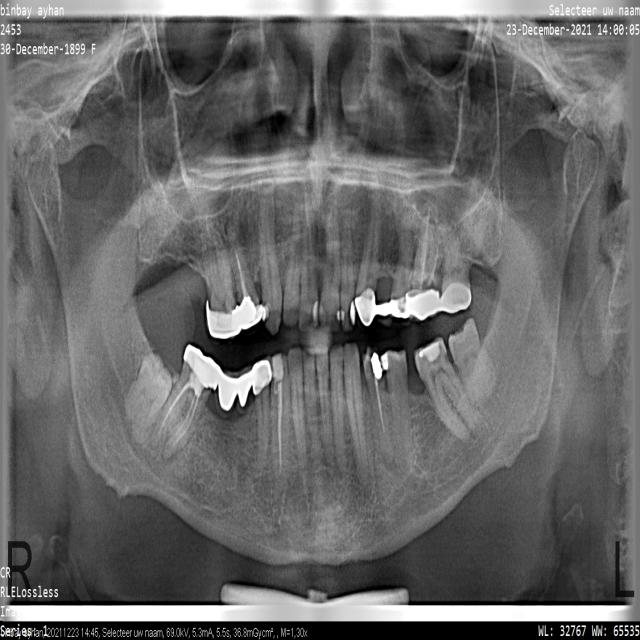Canine: (354, 160, 379, 324), (361, 345, 393, 461), (259, 180, 282, 334), (270, 353, 289, 479)
Incisores: (320, 170, 348, 331), (344, 344, 368, 487), (341, 183, 360, 331), (300, 180, 318, 333), (283, 200, 302, 327), (288, 348, 307, 469), (303, 347, 320, 462), (331, 345, 346, 473), (315, 347, 331, 462)
Premolars: (384, 350, 412, 474), (227, 219, 260, 323), (391, 198, 412, 322), (253, 356, 271, 476)
molars: (150, 350, 217, 460), (414, 337, 478, 442), (195, 215, 238, 332), (127, 354, 172, 443), (214, 366, 251, 467), (407, 213, 442, 319), (448, 319, 490, 404), (442, 247, 472, 304)
